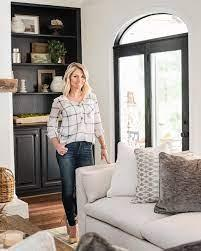FallenBody: (45, 59, 107, 244)
